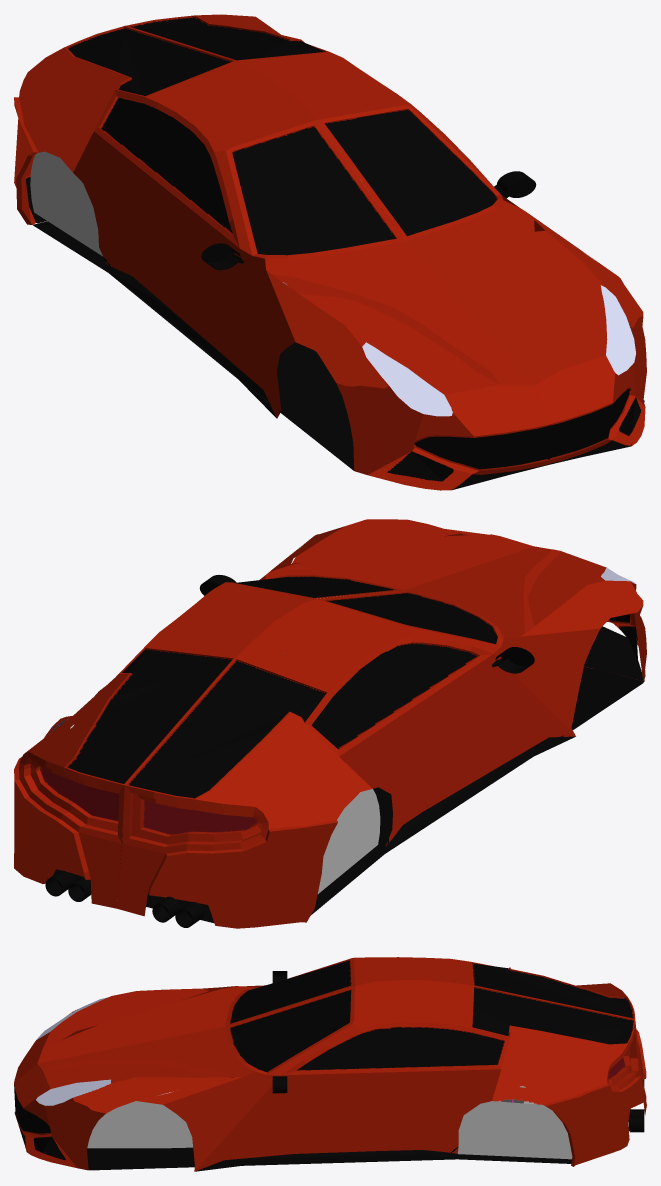
The model's file is Wheelspacing.fbx.
3 renders of one model, top to bottom at view 1: azimuth 30°, elevation 25°; view 2: azimuth 150°, elevation 25°; view 3: azimuth 270°, elevation 25°, orthographic. The views are drawn at different scales.
Parts seen in each view (by area): view 1: CarBody; view 2: CarBody; view 3: CarBody.
Boxes of the visible parts, box(x1,y1,x2,y2) form: CarBody: box(14, 14, 646, 490); CarBody: box(14, 519, 646, 928); CarBody: box(14, 957, 646, 1171).
Bounding box in the file's own units: 3749 × 2118 × 8657.
